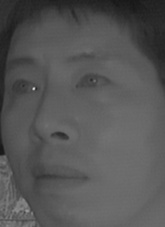eye: (77, 70, 112, 94), (9, 76, 41, 98)
mouth: (22, 155, 90, 197)
